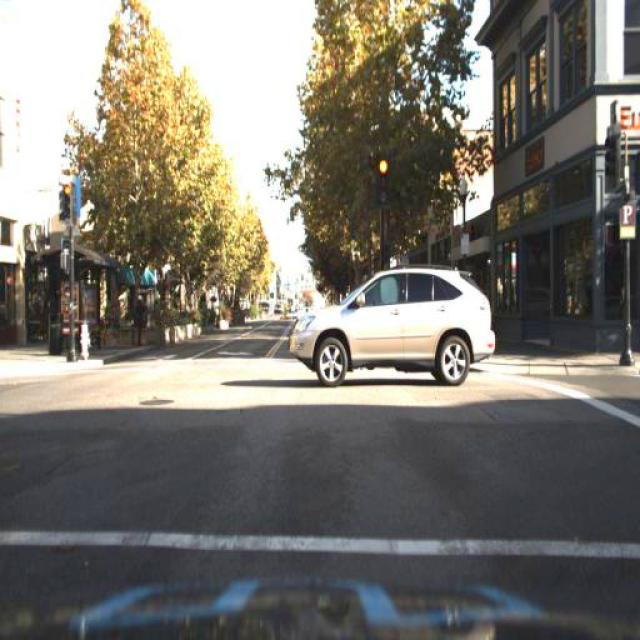semaforo: (376, 159, 392, 209), (58, 183, 76, 226)
